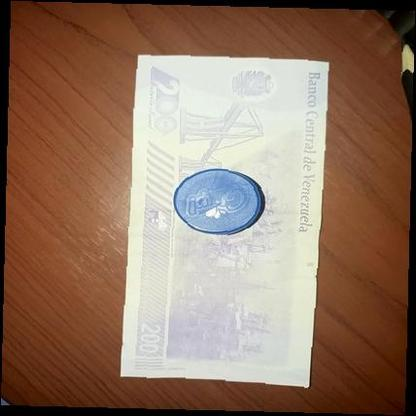two_hundred-back-vef: (118, 54, 330, 388)
